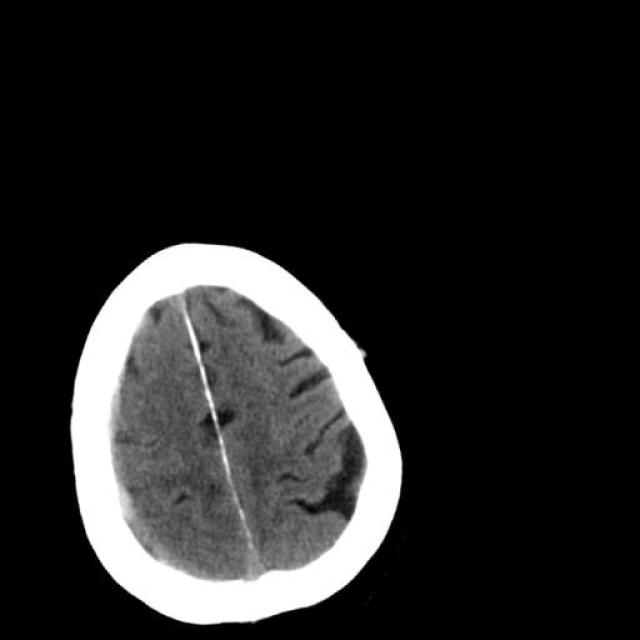Subdural: (30, 331, 215, 594)
